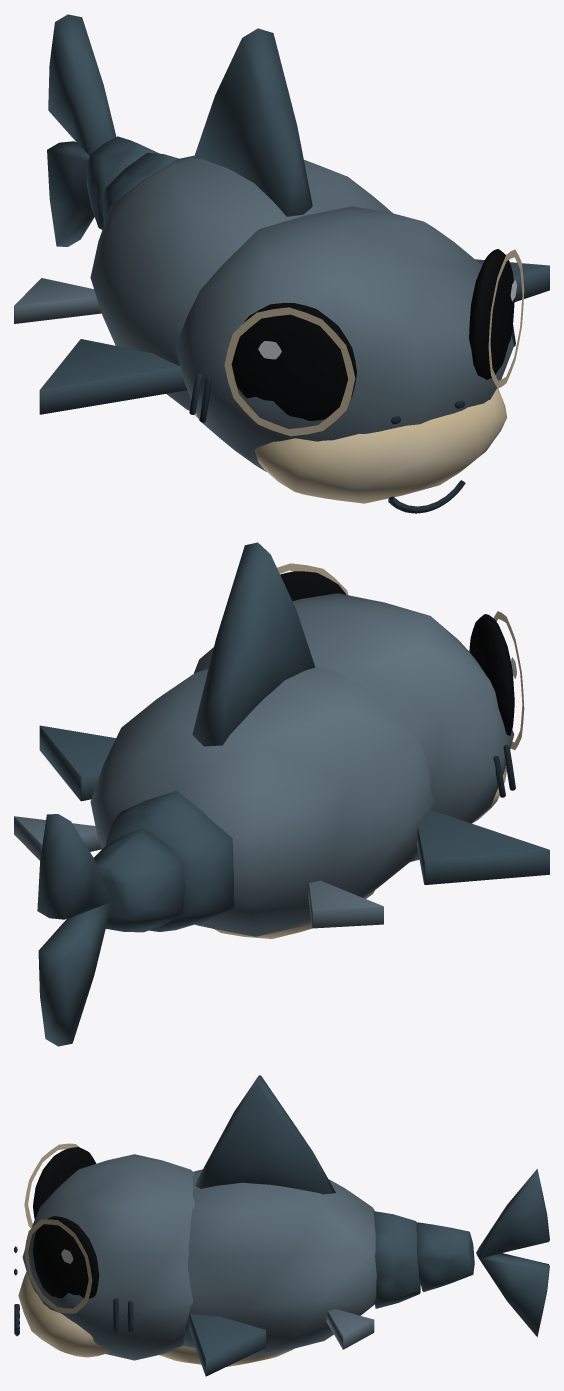
Rendered from critter_shark.glb.
3 renders of one model, top to bottom at view 1: azimuth 30°, elevation 25°; view 2: azimuth 150°, elevation 25°; view 3: azimuth 270°, elevation 25°, orthographic. The views are drawn at different scales.
Parts seen in each view (by area): view 1: critter_shark_part_1, critter_shark_part_0, critter_shark_part_6, critter_shark_part_2, critter_shark_part_4, critter_shark_part_3; view 2: critter_shark_part_0, critter_shark_part_1, critter_shark_part_6, critter_shark_part_2, critter_shark_part_3, critter_shark_part_4, critter_shark_part_5; view 3: critter_shark_part_0, critter_shark_part_1, critter_shark_part_6, critter_shark_part_3, critter_shark_part_5.
Boxes of the visible parts, box(x1,y1,x2,y2) form: critter_shark_part_1: box(175, 206, 524, 513); critter_shark_part_0: box(90, 28, 392, 417); critter_shark_part_6: box(47, 14, 178, 246); critter_shark_part_2: box(39, 339, 186, 414); critter_shark_part_4: box(14, 278, 101, 323); critter_shark_part_3: box(475, 259, 549, 301); critter_shark_part_0: box(90, 542, 433, 938); critter_shark_part_1: box(194, 563, 524, 861); critter_shark_part_6: box(37, 790, 234, 1046); critter_shark_part_2: box(416, 810, 549, 884); critter_shark_part_3: box(39, 725, 115, 801); critter_shark_part_4: box(308, 880, 383, 928); critter_shark_part_5: box(14, 816, 101, 860); critter_shark_part_0: box(159, 1075, 376, 1366); critter_shark_part_1: box(14, 1143, 194, 1360); critter_shark_part_6: box(373, 1169, 549, 1337); critter_shark_part_3: box(189, 1314, 265, 1376); critter_shark_part_5: box(326, 1309, 374, 1349).
Size of the model in its own units: 1.52 by 1.12 by 1.93.
